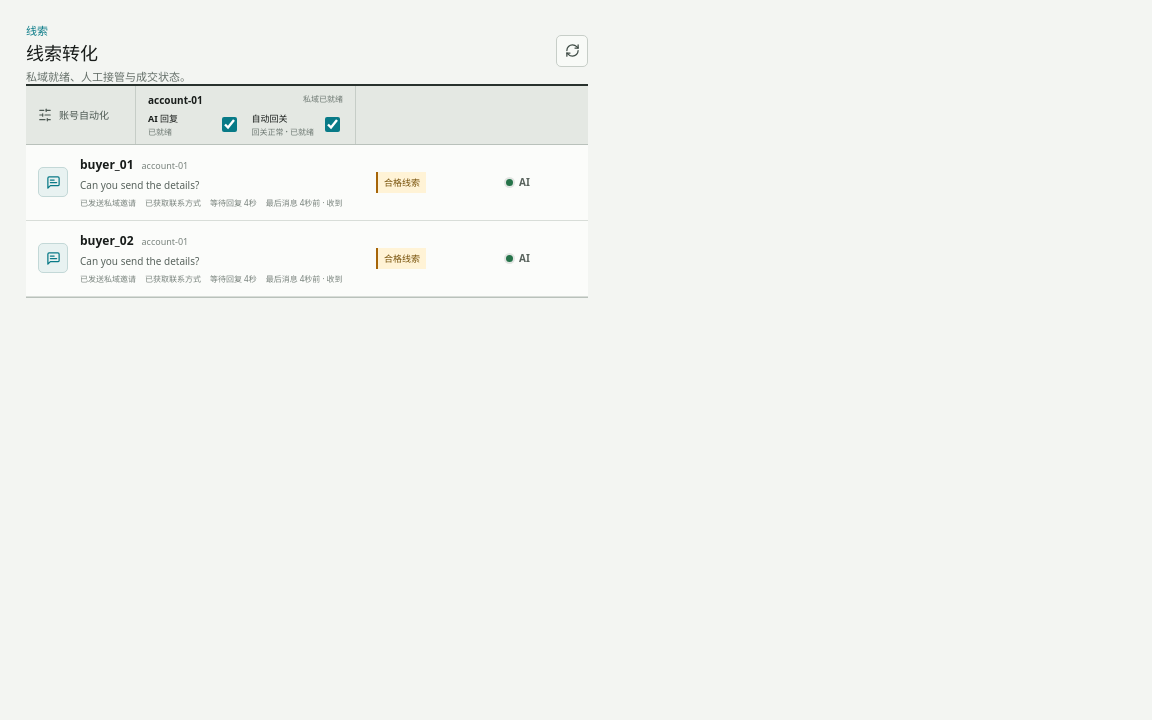
Scenario: keeps pending lead actions and late notices scoped to their conversation
Click the button "buyer_01" at coordinates (107, 164), box [26,144,588,220]
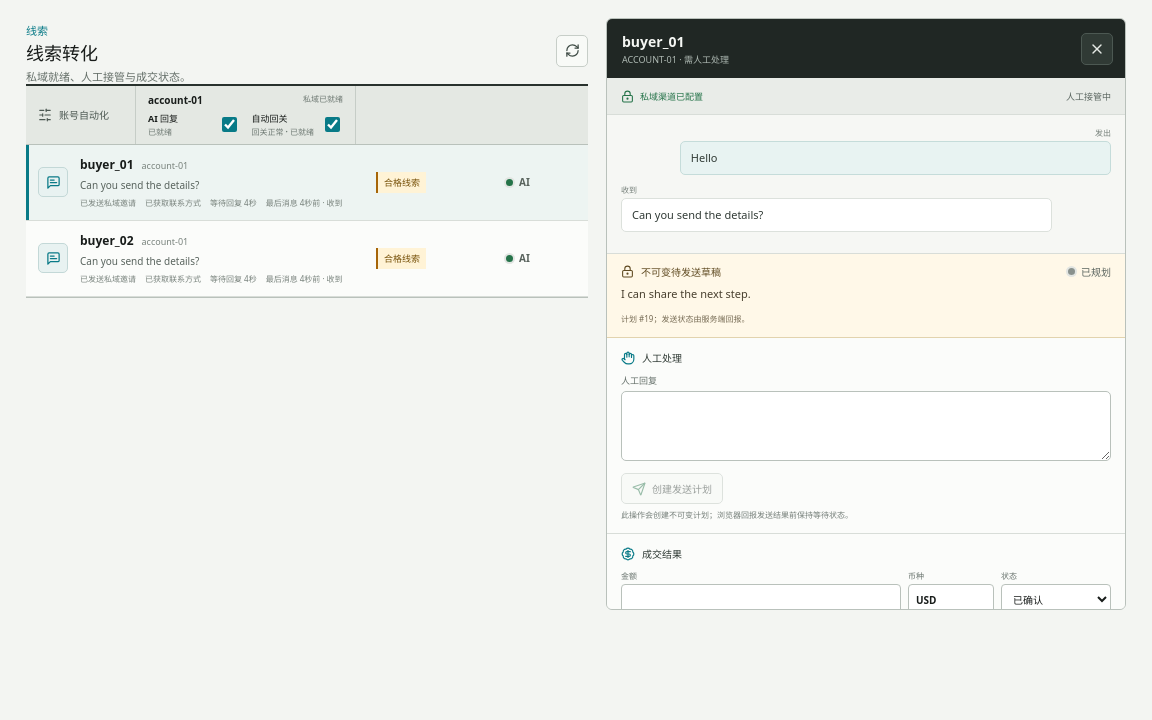
Type "Pending on first" into the text box labelled "人工回复" at coordinates (866, 426), box [621,391,1111,461]
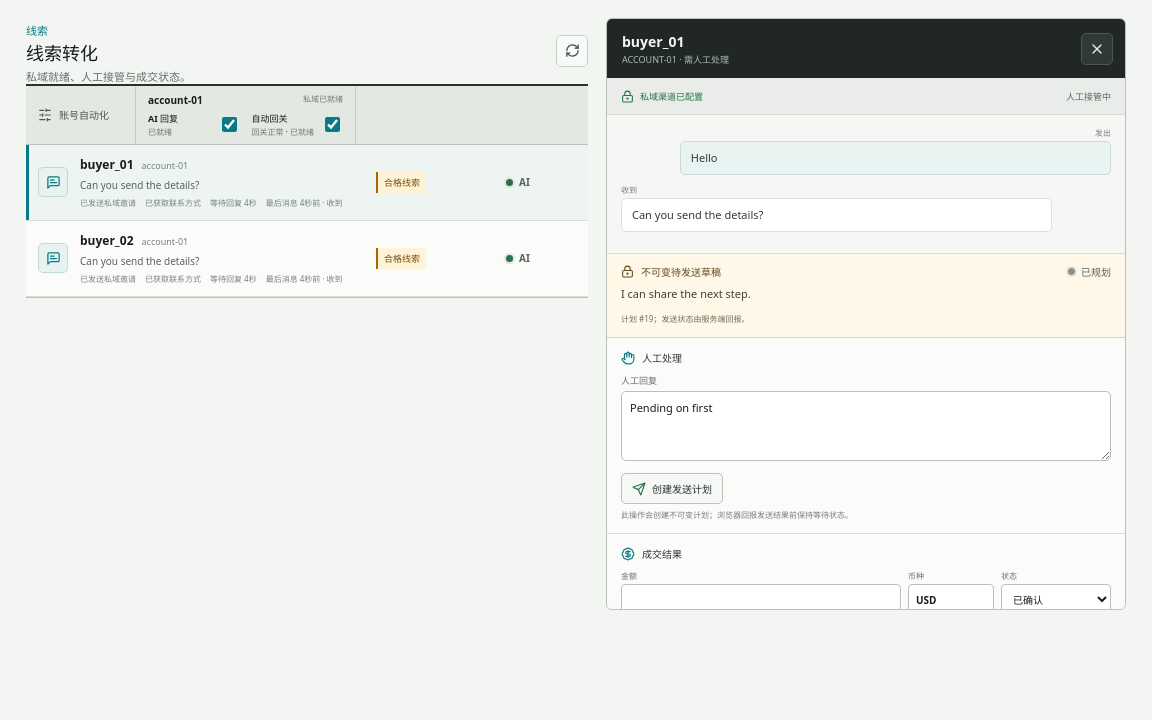
Click the button "创建发送计划" at coordinates (672, 489), box [621,473,723,504]
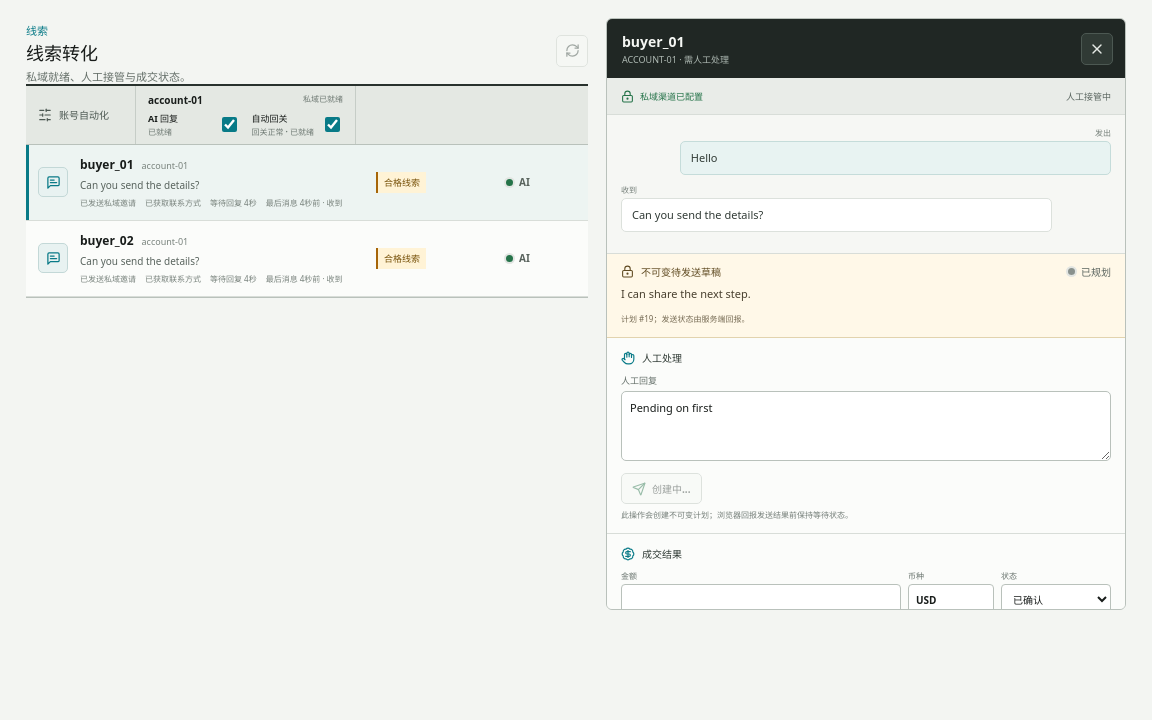
Click the button "buyer_02" at coordinates (107, 240), box [26,220,588,296]
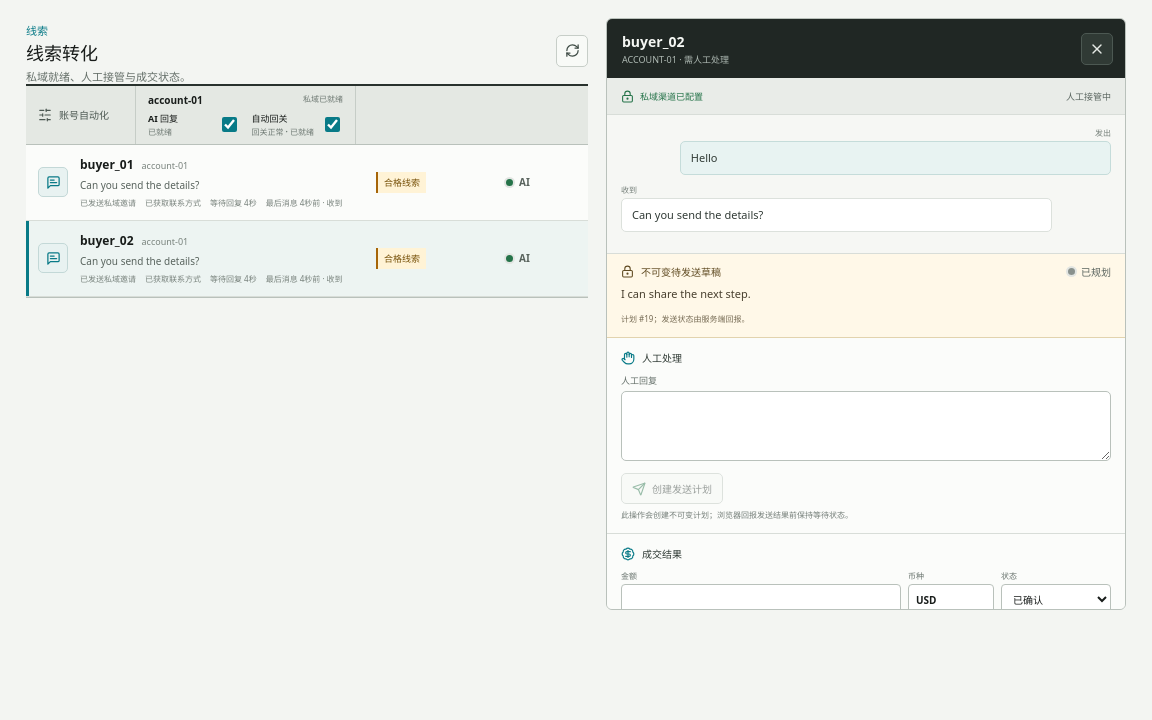
expect the text box labelled "人工回复" is enabled: met, box [621,391,1111,461]
